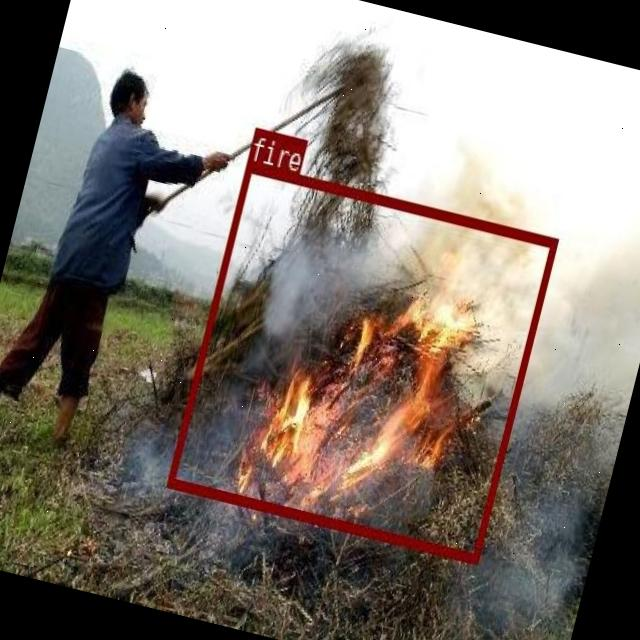fire: (166, 160, 557, 562)
